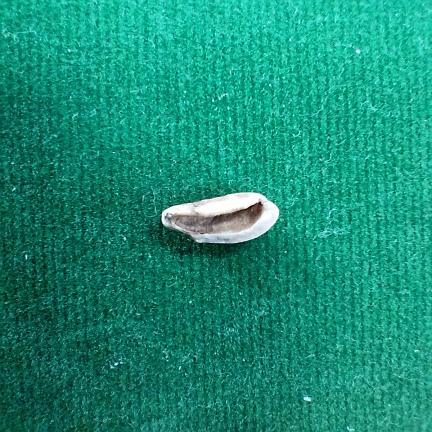shell: (161, 192, 279, 244)
